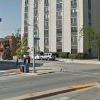Car: (37, 47, 56, 65)
